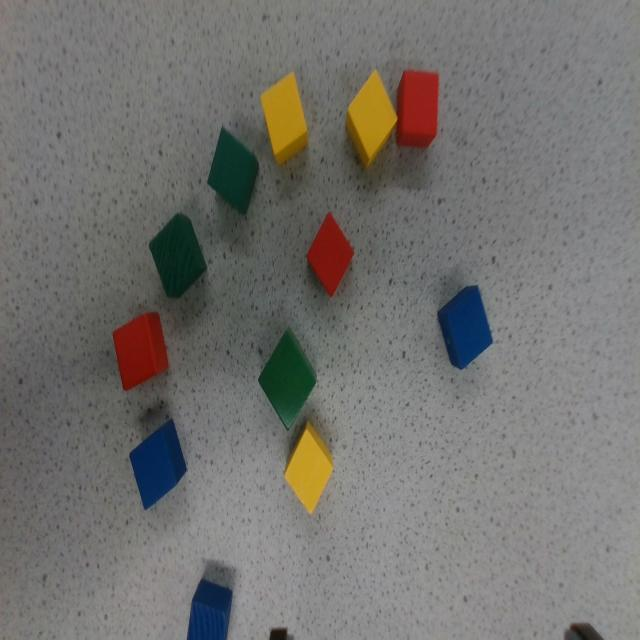blue_cube: (122, 419, 194, 509), (432, 285, 497, 370), (187, 578, 233, 640)
green_cube: (243, 329, 332, 430), (142, 211, 211, 300), (200, 129, 267, 215)
red_cube: (294, 212, 366, 296), (110, 312, 171, 390), (394, 70, 438, 148)
yellow_cube: (329, 70, 412, 168), (273, 420, 347, 514), (256, 73, 314, 165)
